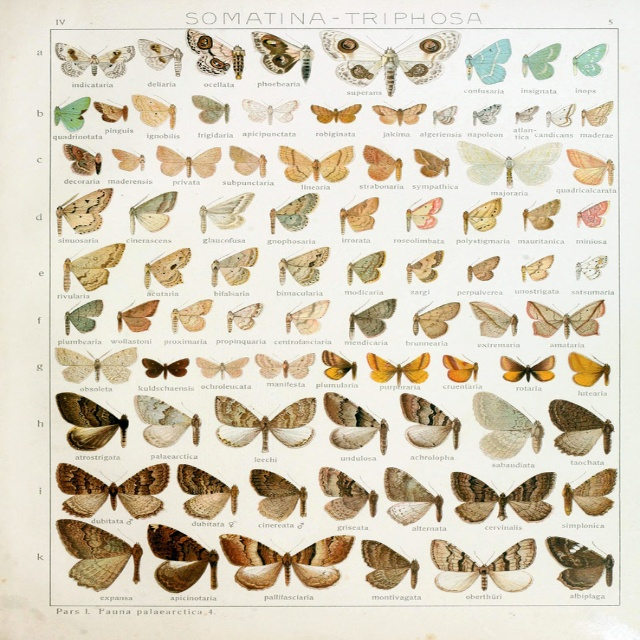Butterfly: (323, 28, 454, 93), (212, 531, 355, 589), (56, 521, 144, 596), (59, 464, 174, 520), (433, 534, 531, 596), (451, 469, 557, 523), (141, 525, 221, 592), (538, 530, 618, 594), (472, 391, 547, 459), (216, 405, 312, 457), (455, 137, 559, 185), (51, 391, 125, 453), (542, 399, 615, 461), (49, 342, 139, 384), (183, 25, 246, 85), (179, 464, 243, 523), (134, 394, 205, 447), (384, 464, 442, 527), (328, 395, 387, 455), (60, 244, 133, 292), (397, 397, 463, 450), (560, 464, 624, 518), (360, 533, 420, 590), (255, 28, 317, 82), (525, 297, 606, 338), (51, 40, 136, 79), (247, 467, 309, 520), (321, 465, 380, 518), (280, 145, 358, 183), (124, 189, 185, 236), (54, 189, 112, 238), (363, 351, 437, 387), (492, 354, 570, 387), (268, 190, 324, 234), (566, 137, 616, 186), (341, 295, 397, 338), (142, 243, 193, 288), (207, 244, 258, 289), (191, 195, 252, 232), (125, 90, 183, 128), (466, 40, 516, 84), (159, 142, 220, 178), (341, 246, 392, 287), (276, 296, 329, 334), (279, 244, 324, 288), (136, 37, 182, 79), (467, 299, 519, 336), (243, 93, 303, 123), (56, 142, 108, 176), (413, 304, 465, 338), (404, 246, 446, 287), (339, 194, 382, 234), (458, 198, 502, 237), (112, 299, 163, 332), (519, 195, 564, 232), (402, 197, 449, 232), (170, 296, 212, 335), (413, 139, 452, 181), (191, 354, 258, 378), (255, 353, 314, 380), (226, 142, 268, 178), (59, 298, 95, 339), (563, 254, 612, 284), (571, 198, 615, 231), (571, 354, 611, 390), (518, 43, 559, 78), (89, 95, 133, 127), (515, 251, 557, 284), (221, 299, 262, 332), (142, 357, 193, 382), (49, 96, 84, 132), (571, 40, 604, 78), (365, 148, 402, 181), (311, 103, 364, 126), (372, 101, 426, 123), (466, 251, 501, 283), (323, 347, 356, 380), (446, 350, 478, 383), (110, 145, 148, 172), (470, 101, 506, 126), (583, 99, 616, 126), (198, 94, 229, 122), (426, 106, 465, 125), (510, 104, 542, 123), (550, 103, 574, 128)
